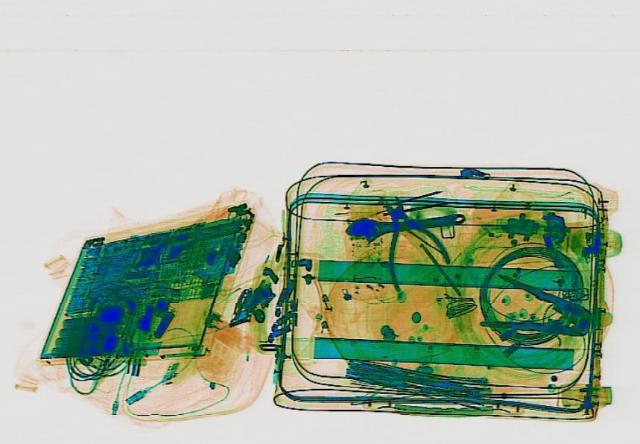Pliers: (352, 190, 460, 292), (470, 272, 606, 345)
Wrench: (340, 203, 468, 241)
